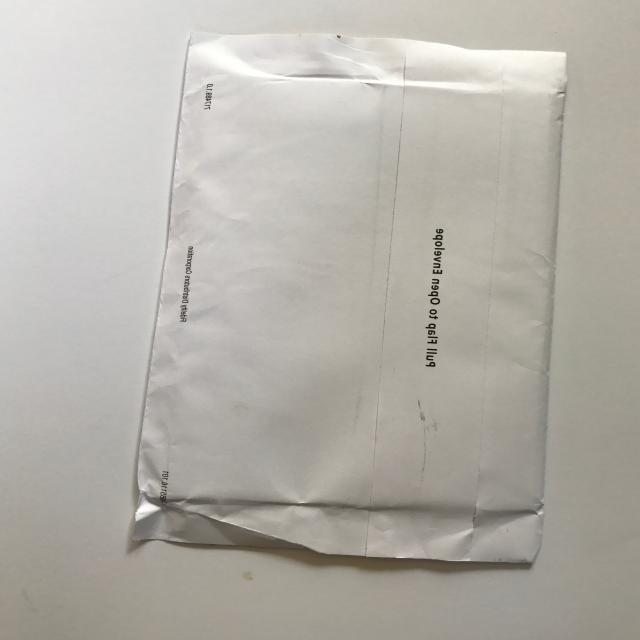paper: (101, 22, 593, 579)
